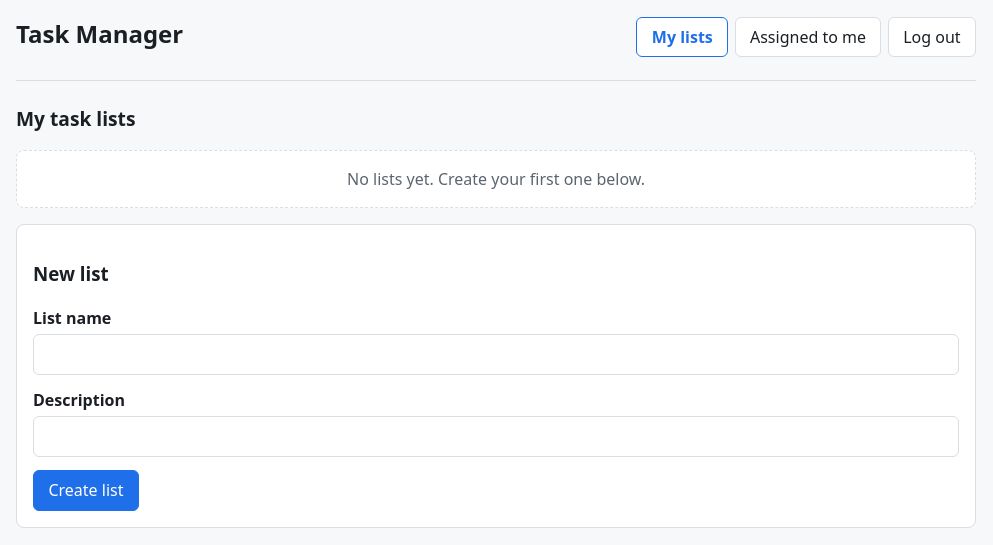
App › clears the session when the user logs out
Click the button "Log out": (932,37) [888,17,976,57]
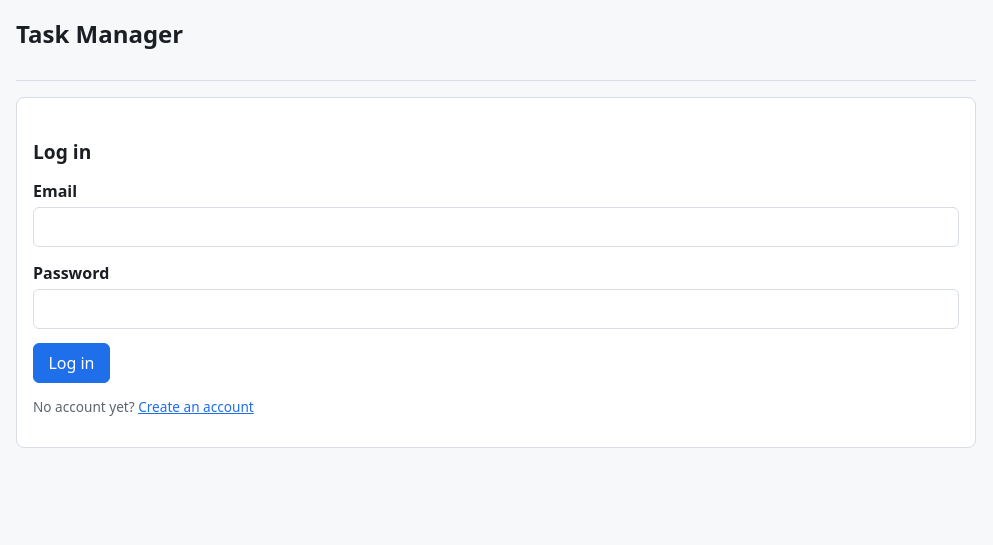
Check: the field labelled "Email" is shown, box [33,207,959,247]
